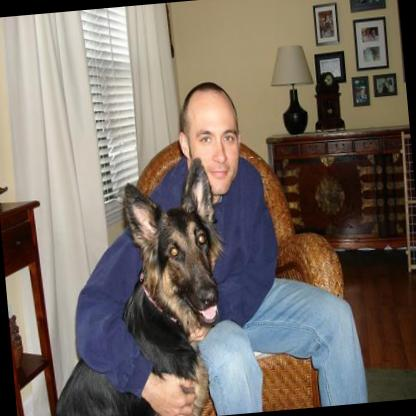German_shepherd: (32, 155, 238, 416)
